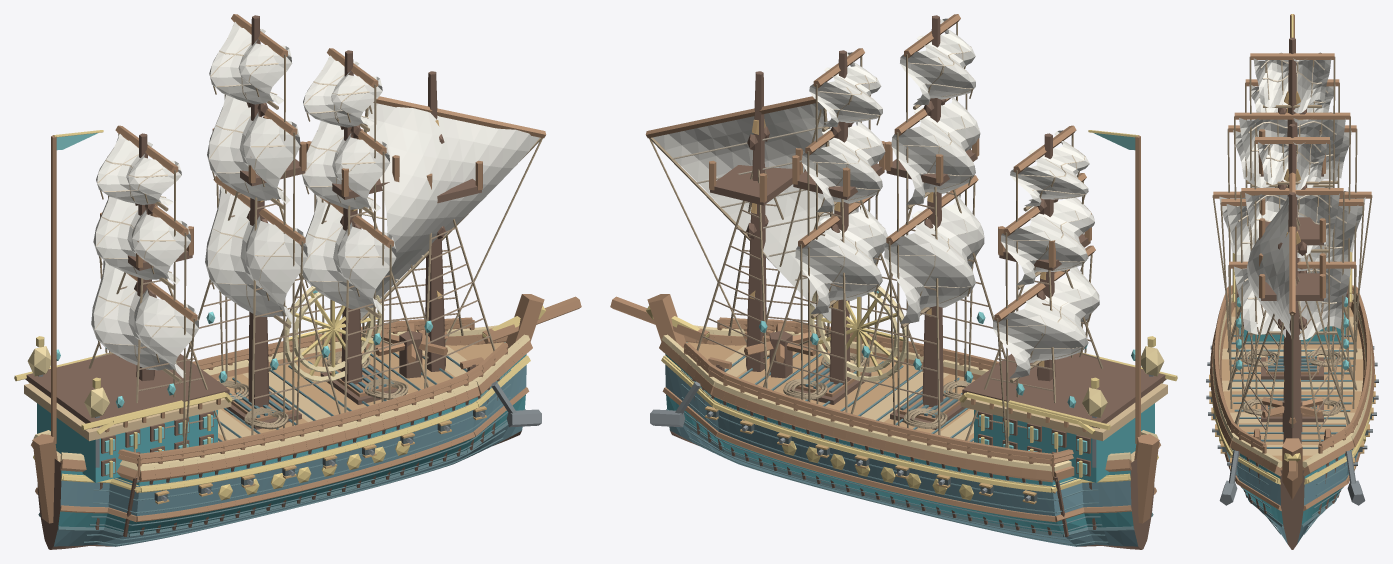
The model's file is astheria_flagship-v5-mobile.glb.
The picture shows the model from 3 angles, left to right: view 1: azimuth 30°, elevation 25°; view 2: azimuth 150°, elevation 25°; view 3: azimuth 270°, elevation 25°; orthographic projection. The views are drawn at different scales.
Parts seen in each view (by area): view 1: astheria_flagship_sails_white, astheria_flagship_hull_hull2, astheria_flagship_hull_blue, astheria_flagship_masts_darkwood, astheria_flagship_rigging_rope, astheria_flagship_deck_darkwood, astheria_flagship_hull_ghostdark, astheria_flagship_railings_hull2, astheria_flagship_rigging_hull2, astheria_flagship_hull_teal, astheria_flagship_hull_pale, astheria_flagship_masts_rope (+22 smaller); view 2: astheria_flagship_sails_white, astheria_flagship_masts_darkwood, astheria_flagship_hull_hull2, astheria_flagship_hull_blue, astheria_flagship_rigging_rope, astheria_flagship_deck_darkwood, astheria_flagship_hull_ghostdark, astheria_flagship_railings_hull2, astheria_flagship_rigging_hull2, astheria_flagship_hull_teal, astheria_flagship_masts_rope, astheria_flagship_hull_pale (+22 smaller); view 3: astheria_flagship_sails_white, astheria_flagship_rigging_rope, astheria_flagship_masts_darkwood, astheria_flagship_rigging_hull2, astheria_flagship_hull_wood, astheria_flagship_hull_hull2, astheria_flagship_hull_ghostdark, astheria_flagship_masts_rope, astheria_flagship_railings_hull2, astheria_flagship_hull_decklight, astheria_flagship_hull_blue, astheria_flagship_rigging_sailshade (+17 smaller).
Boxes of the visible parts, x1,y1,x2,y2 form: astheria_flagship_sails_white: (91,22,539,377); astheria_flagship_hull_hull2: (31,294,581,523); astheria_flagship_hull_blue: (53,365,526,546); astheria_flagship_masts_darkwood: (127,15,481,407); astheria_flagship_rigging_rope: (97,22,542,447); astheria_flagship_deck_darkwood: (25,353,229,476); astheria_flagship_hull_ghostdark: (38,350,525,545); astheria_flagship_railings_hull2: (118,317,508,476); astheria_flagship_rigging_hull2: (115,14,546,322); astheria_flagship_hull_teal: (58,342,526,534); astheria_flagship_hull_pale: (33,325,529,471); astheria_flagship_masts_rope: (89,191,495,452); astheria_flagship_sails_white: (653,18,1099,378); astheria_flagship_masts_darkwood: (710,15,1090,407); astheria_flagship_hull_hull2: (610,294,1160,523); astheria_flagship_hull_blue: (665,365,1138,546); astheria_flagship_rigging_rope: (649,22,1092,447); astheria_flagship_deck_darkwood: (962,353,1166,476); astheria_flagship_hull_ghostdark: (666,350,1153,545); astheria_flagship_railings_hull2: (683,317,1073,476); astheria_flagship_rigging_hull2: (645,14,1095,322); astheria_flagship_hull_teal: (665,342,1133,534); astheria_flagship_masts_rope: (696,169,1102,452); astheria_flagship_hull_pale: (662,325,1158,471); astheria_flagship_sails_white: (1219,52,1365,339); astheria_flagship_rigging_rope: (1212,57,1372,427); astheria_flagship_masts_darkwood: (1261,37,1323,443); astheria_flagship_rigging_hull2: (1213,53,1371,315); astheria_flagship_hull_wood: (1221,307,1363,461); astheria_flagship_hull_hull2: (1210,300,1374,510); astheria_flagship_hull_ghostdark: (1226,312,1358,534); astheria_flagship_masts_rope: (1227,187,1357,442); astheria_flagship_railings_hull2: (1213,285,1371,453); astheria_flagship_hull_decklight: (1222,316,1362,455); astheria_flagship_hull_blue: (1227,452,1357,544); astheria_flagship_rigging_sailshade: (1237,60,1346,323).
Size of the model in its own units: 62.08 by 53.57 by 20.45.
